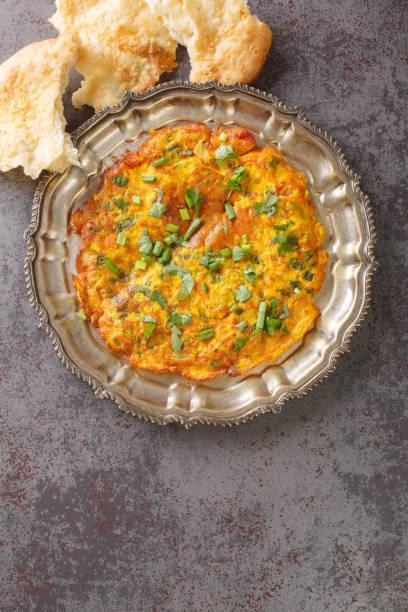omelette: (60, 123, 321, 374)
